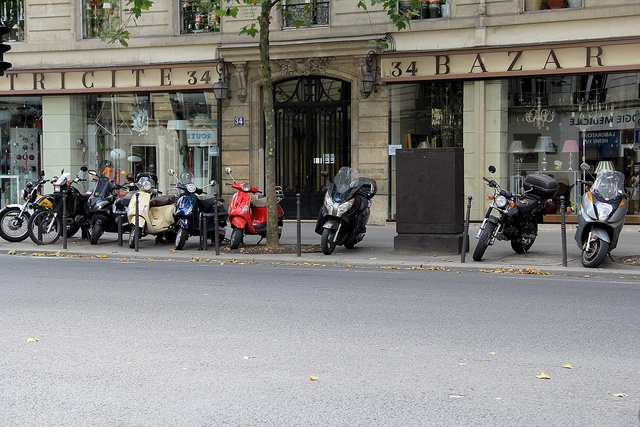non-vehicle: (469, 165, 558, 262), (573, 161, 633, 268), (161, 165, 225, 256), (314, 166, 378, 255), (27, 165, 94, 245), (224, 164, 283, 249), (87, 169, 138, 247), (0, 168, 50, 242), (128, 176, 178, 248)
